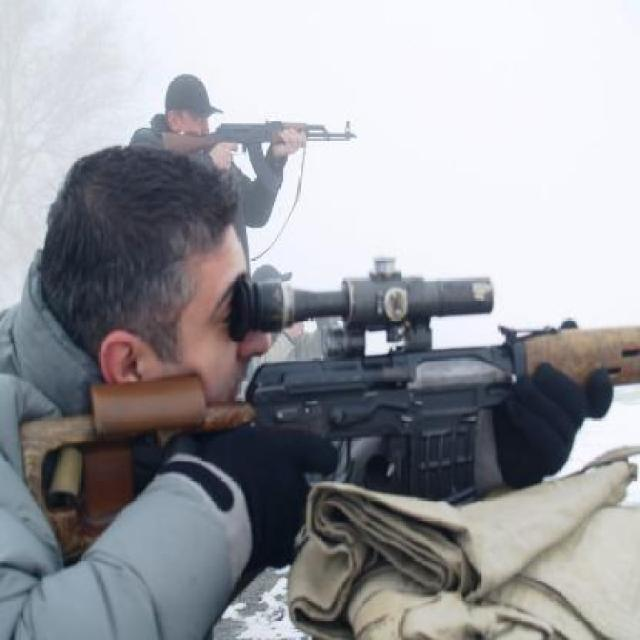weapon: (7, 259, 640, 591), (141, 97, 372, 189)
